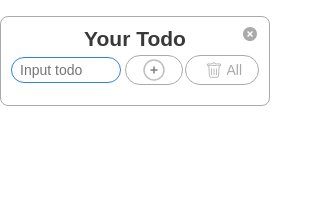
test CRUD TodoModal › test remove todo
The width and height of the screenshot is (320, 203).
Type "todo1" into the field with placeholder "Input todo" at [66, 70], box x1=11 y1=57 x2=121 y2=83
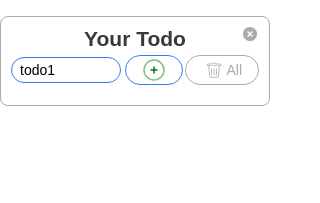
Click the 2nd button at [154, 70], box x1=125 y1=55 x2=183 y2=85
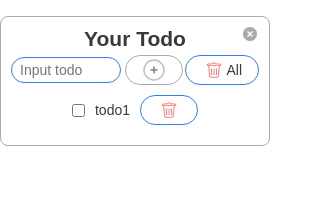
Type "todo2" into the field with placeholder "Input todo" at [66, 70], box x1=11 y1=57 x2=121 y2=83
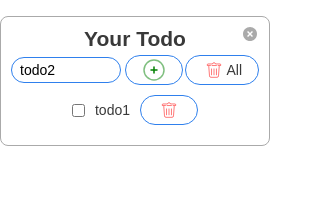
Click the 2nd button at [154, 70], box x1=125 y1=55 x2=183 y2=85
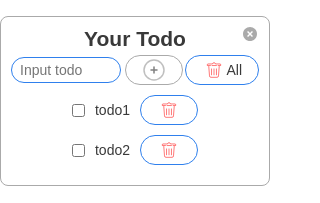
Click the button with alt text "removeIcon" next to "todo1" at [169, 110], box x1=140 y1=95 x2=198 y2=125
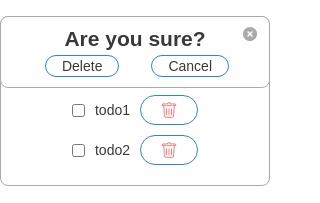
Click the button "Delete" at [82, 66], box x1=45 y1=55 x2=120 y2=77
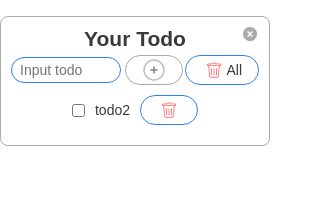
expect the text "todo2" is shown: met, box x1=95 y1=102 x2=130 y2=118
expect the text "todo1" is gone: met
